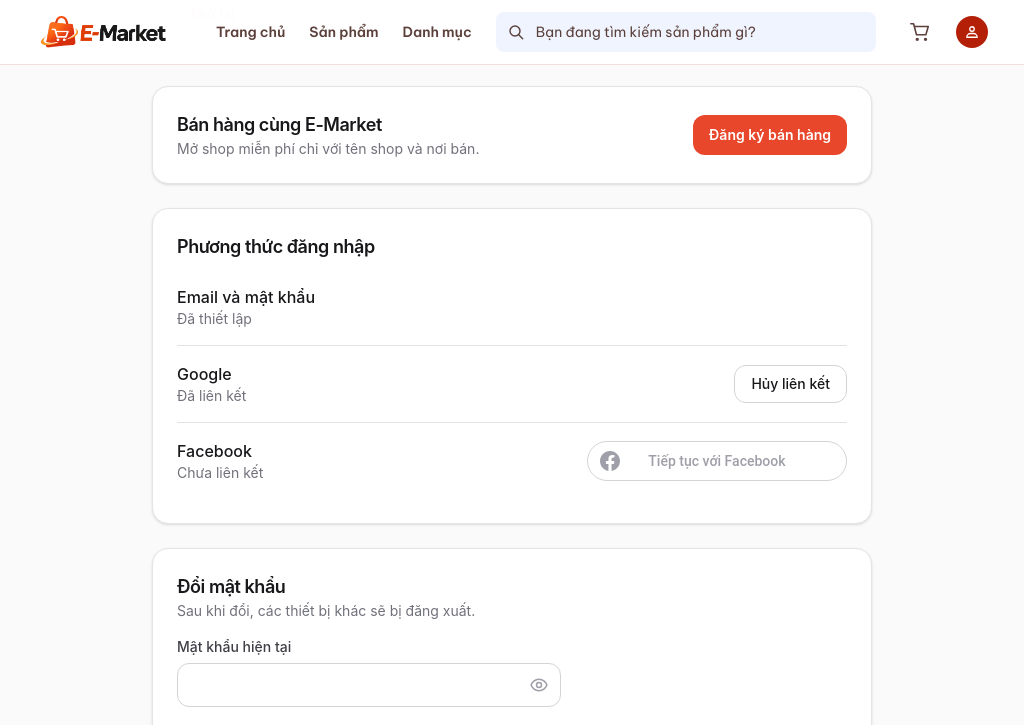
Test: Trang tài khoản › hiển thị phương thức đăng nhập và hủy liên kết Google
(page scrolled)
Expected: the text "Đã liên kết" is shown, [177,386,246,406]
Click the button with aria-label "Hủy liên kết Google" at (791, 384), box [734,365,847,403]
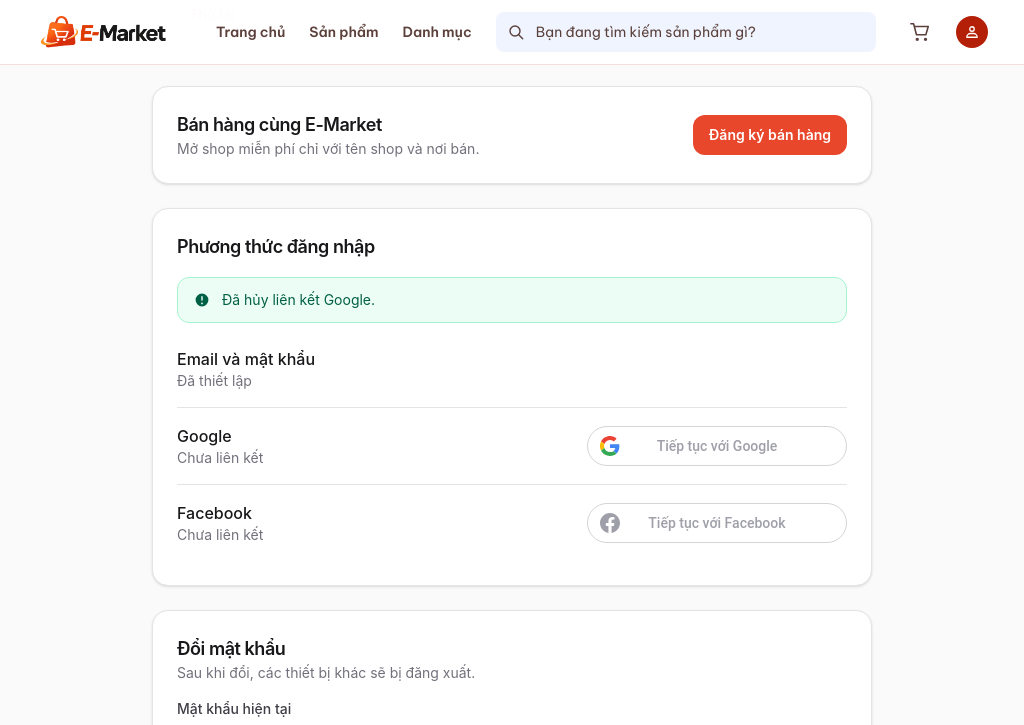
Expected: the text "Chưa liên kết" is shown 2 times, [177,448,263,468]; [177,525,263,545]
Now the text "Đã hủy liên kết Google." is shown, box [222,290,375,310]
